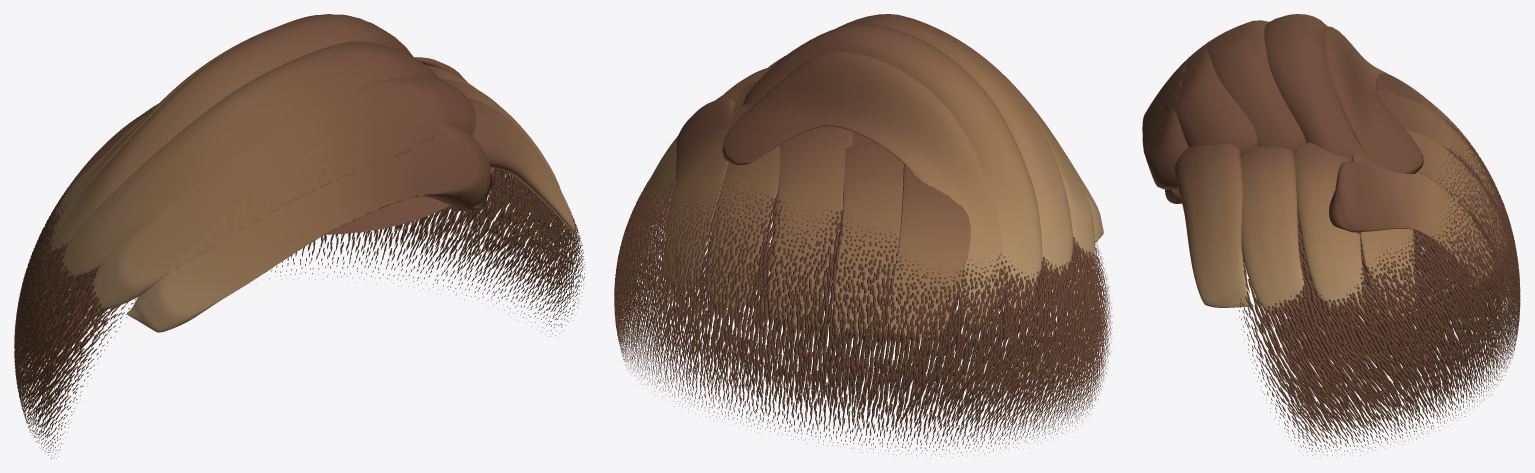
Rendered from Masculine-taper-beanie254-hair-ombre.glb.
3 renders of one model, left to right at view 1: azimuth 30°, elevation 25°; view 2: azimuth 150°, elevation 25°; view 3: azimuth 270°, elevation 25°, orthographic. The views are drawn at different scales.
Parts seen in each view (by area): view 1: 226 hair / Hair252 / sculpted locks, 226 hair / Hair252 / gentle tonal variation, 226 hair / Hair254 / rooted short groom; view 2: 226 hair / Hair252 / sculpted locks, 226 hair / Hair254 / rooted short groom, 226 hair / Hair252 / gentle tonal variation; view 3: 226 hair / Hair252 / sculpted locks, 226 hair / Hair254 / rooted short groom, 226 hair / Hair252 / gentle tonal variation.
Part boxes in pixels (x1,y1,x2,y2): 226 hair / Hair252 / sculpted locks: (36, 14, 560, 310); 226 hair / Hair252 / gentle tonal variation: (127, 98, 575, 332); 226 hair / Hair254 / rooted short groom: (14, 167, 585, 458); 226 hair / Hair252 / sculpted locks: (633, 14, 1094, 337); 226 hair / Hair254 / rooted short groom: (614, 163, 1113, 458); 226 hair / Hair252 / gentle tonal variation: (768, 56, 1103, 335); 226 hair / Hair252 / sculpted locks: (1161, 14, 1506, 317); 226 hair / Hair254 / rooted short groom: (1237, 110, 1520, 458); 226 hair / Hair252 / gentle tonal variation: (1142, 61, 1467, 307).
Bounding box in the file's own units: 0.9716 × 0.6881 × 0.7221.
